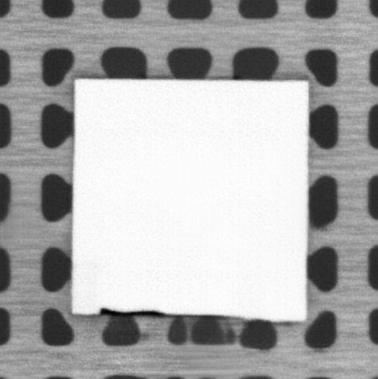DIE_BROKEN: (96, 306, 168, 319)
